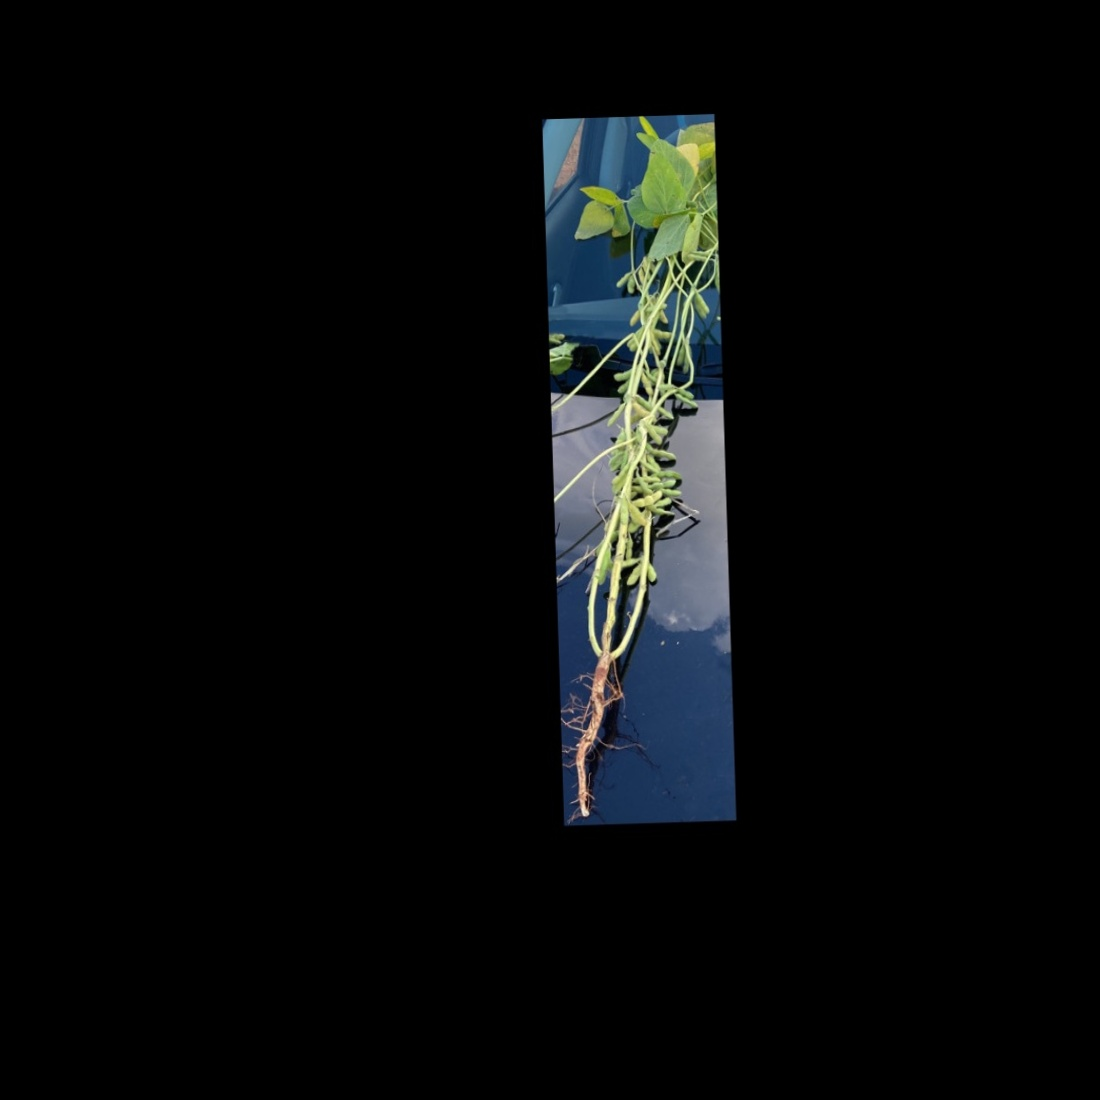pod: (628, 487, 663, 508), (602, 400, 625, 429), (623, 562, 646, 589), (645, 420, 666, 447), (637, 367, 655, 398), (644, 447, 678, 463), (693, 287, 711, 317), (614, 266, 635, 290), (622, 270, 637, 296), (651, 327, 676, 340)
soy: (543, 121, 731, 808)
